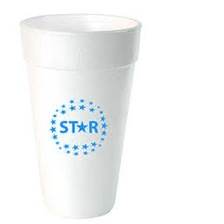paper_cup: (11, 10, 146, 223)
